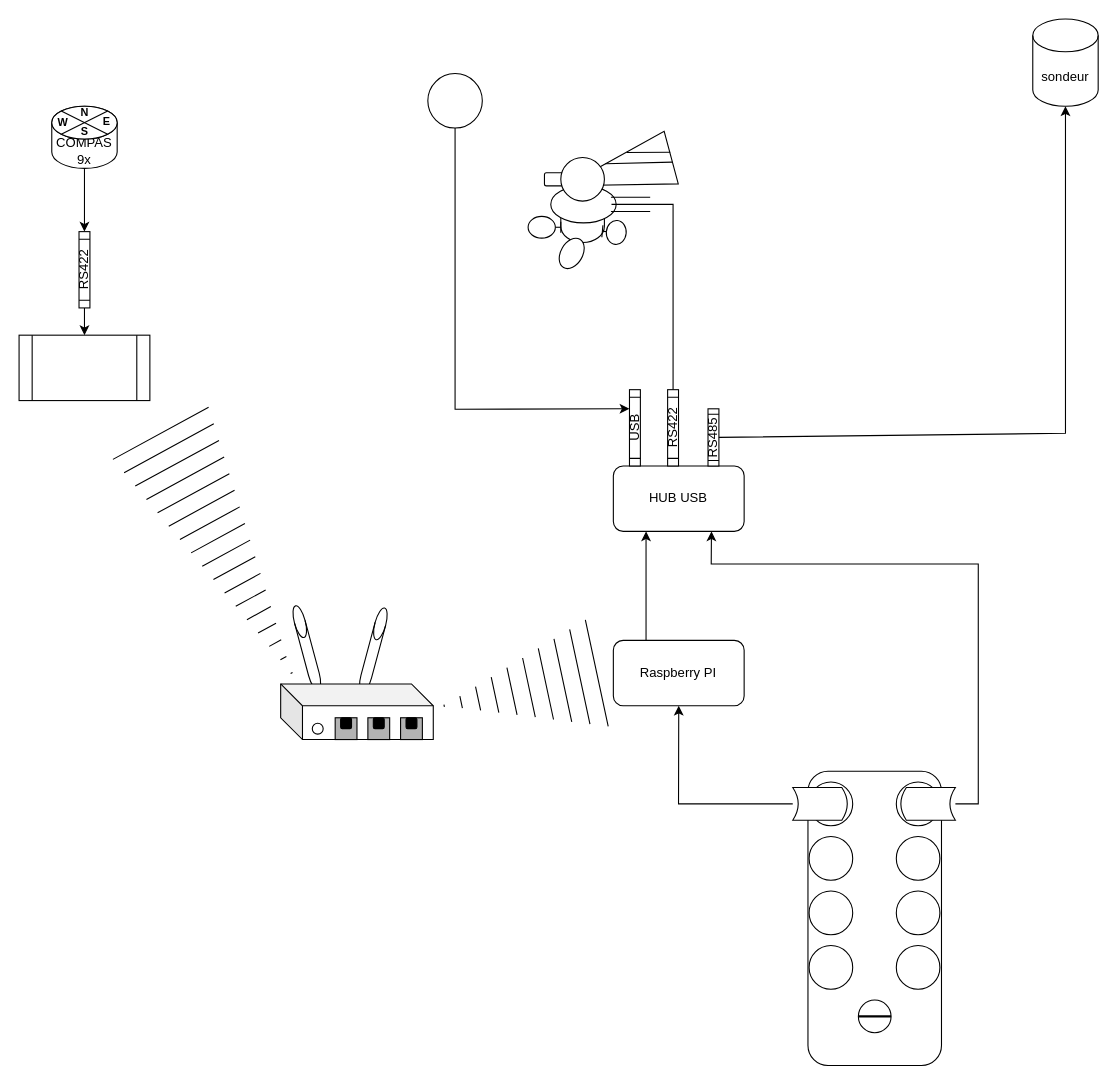
This 1117x1086 diagram has some shape labels left out. The shapes that lost their labels are listed below. From the top down, each one's centre as x and y in pixels, then its label:
At pixel 454 100: "GPS".
At pixel 84 367: "ESP32".
